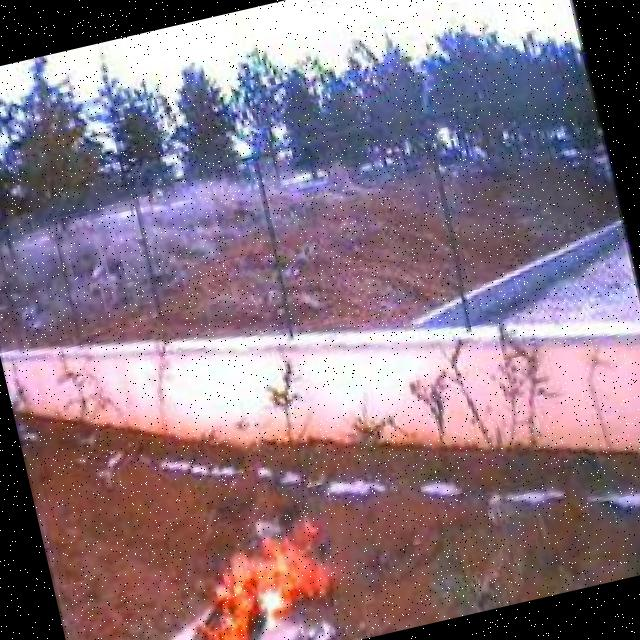fire: (168, 501, 374, 640)
